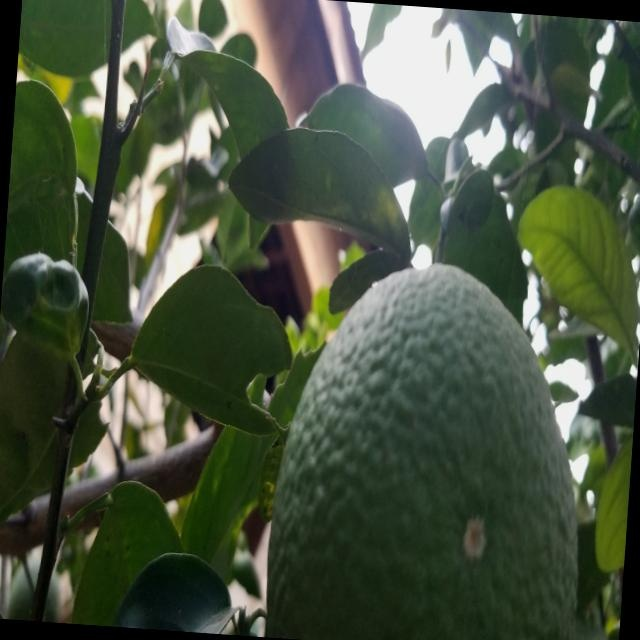agrume: (260, 242, 598, 640)
